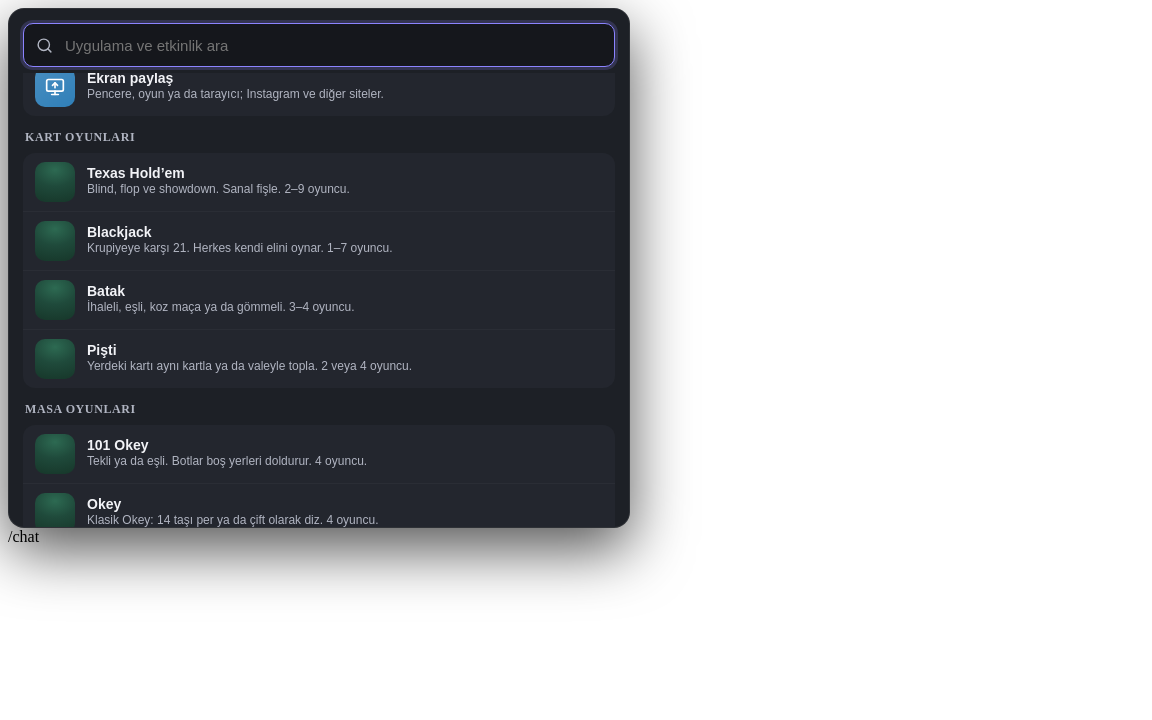
Scenario: lists apps, watch-together, games and tools, and opens a game straight at its table setup
This screenshot has width=1152, height=720.
(page scrolled)
Expected: the heading "Kart oyunları" is shown, [25, 130, 135, 144]
Expected: the heading "Masa oyunları" is shown, [25, 402, 136, 416]
Click the button "Batak" at (319, 300), box [23, 271, 615, 330]
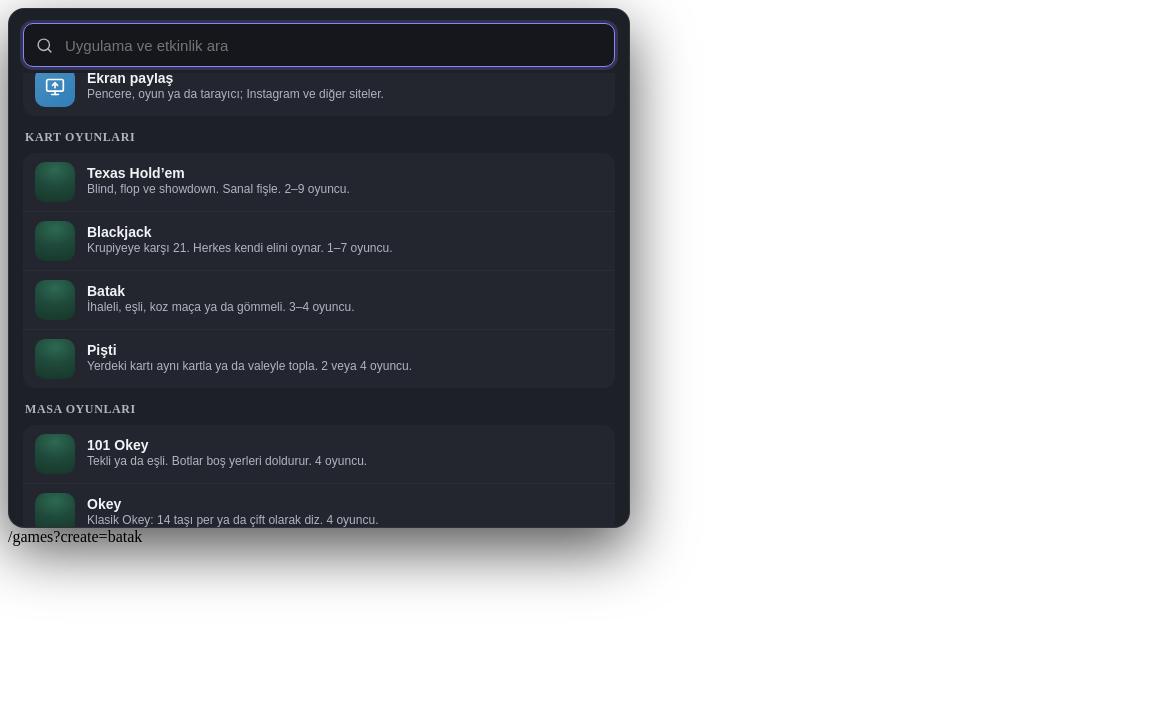
Expected: the text with test id "route" reads "/games?create=batak", [8, 528, 142, 545]
